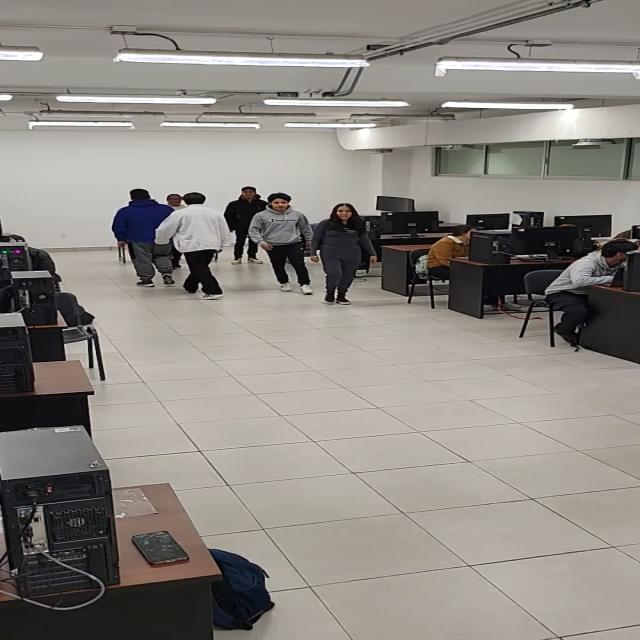Persona: (309, 200, 374, 308), (249, 191, 315, 297), (173, 192, 234, 304), (110, 184, 173, 290), (224, 178, 264, 263)
